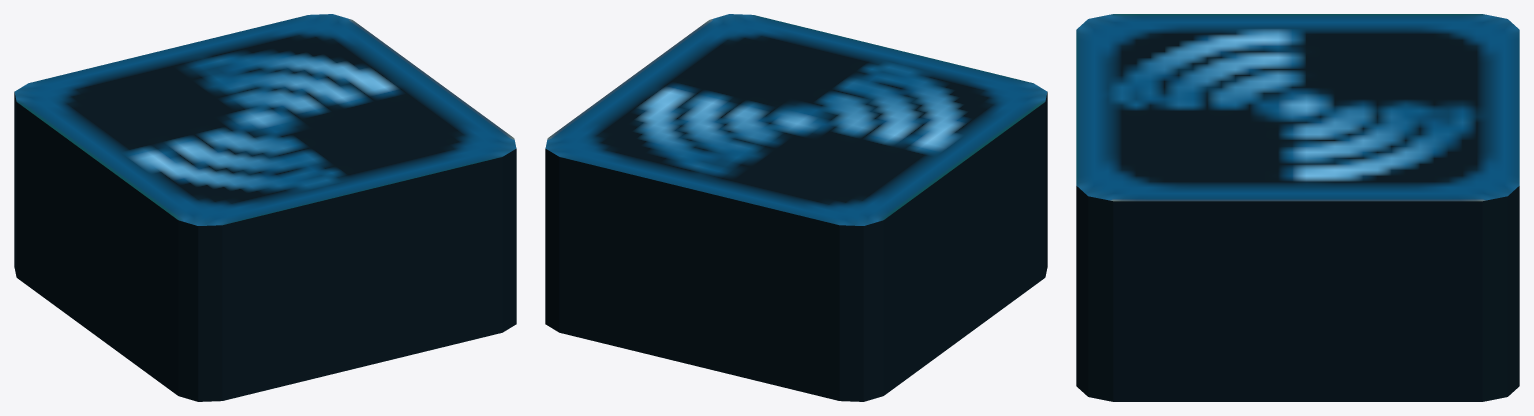
Rendered from icon_recon.obj.
The picture shows the model from 3 angles, left to right: view 1: azimuth 30°, elevation 25°; view 2: azimuth 150°, elevation 25°; view 3: azimuth 270°, elevation 25°; orthographic projection. The views are drawn at different scales.
Visible parts, largest first — view 1: Icon-AlienRecon.001_Plane.021; view 2: Icon-AlienRecon.001_Plane.021; view 3: Icon-AlienRecon.001_Plane.021.
Part boxes in pixels (x1,y1,x2,y2): Icon-AlienRecon.001_Plane.021: (14,14,516,401); Icon-AlienRecon.001_Plane.021: (545,14,1047,401); Icon-AlienRecon.001_Plane.021: (1076,14,1519,401).
Bounding box in the file's own units: 2 × 1 × 2.
Materials: 2 (2 with a texture image).
